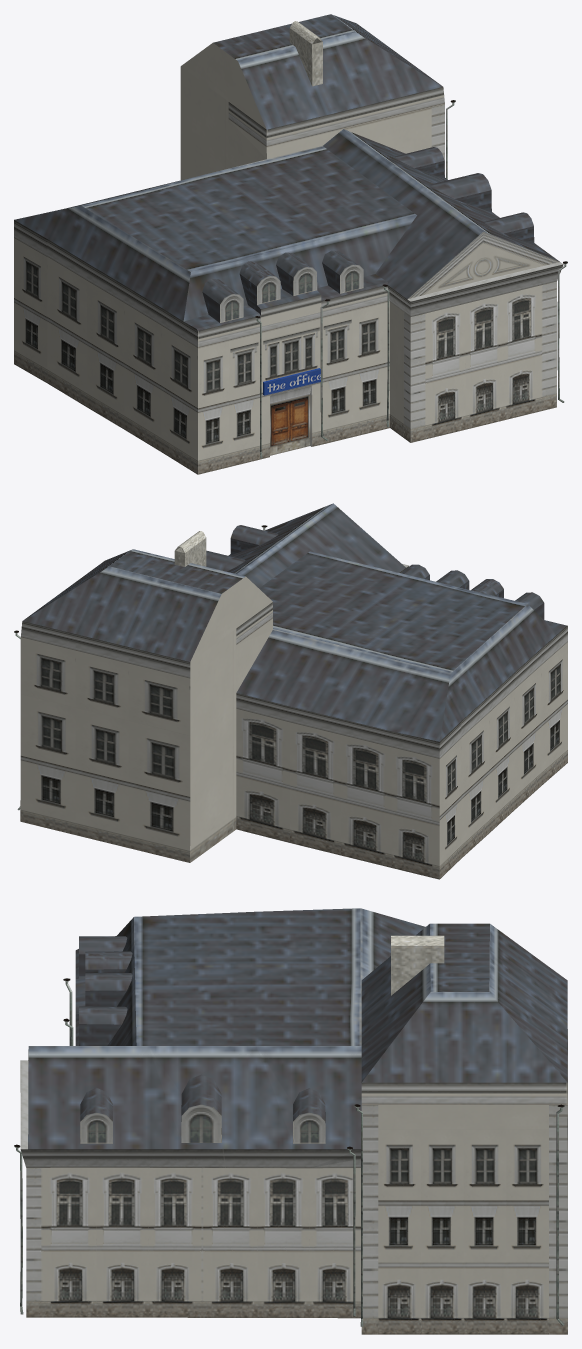
The picture shows the model from 3 angles, top to bottom: view 1: azimuth 30°, elevation 25°; view 2: azimuth 150°, elevation 25°; view 3: azimuth 270°, elevation 25°; orthographic projection. The views are drawn at different scales.
Visible parts, largest first — view 1: House_1_lod_2; view 2: House_1_lod_2; view 3: House_1_lod_2.
Boxes of the visible parts, left/top/right/bottom form: House_1_lod_2: left=14, top=14, right=567, bottom=474; House_1_lod_2: left=14, top=503, right=567, bottom=879; House_1_lod_2: left=14, top=908, right=567, bottom=1334.
Bounding box in the file's own units: 130 × 86.02 × 130.
